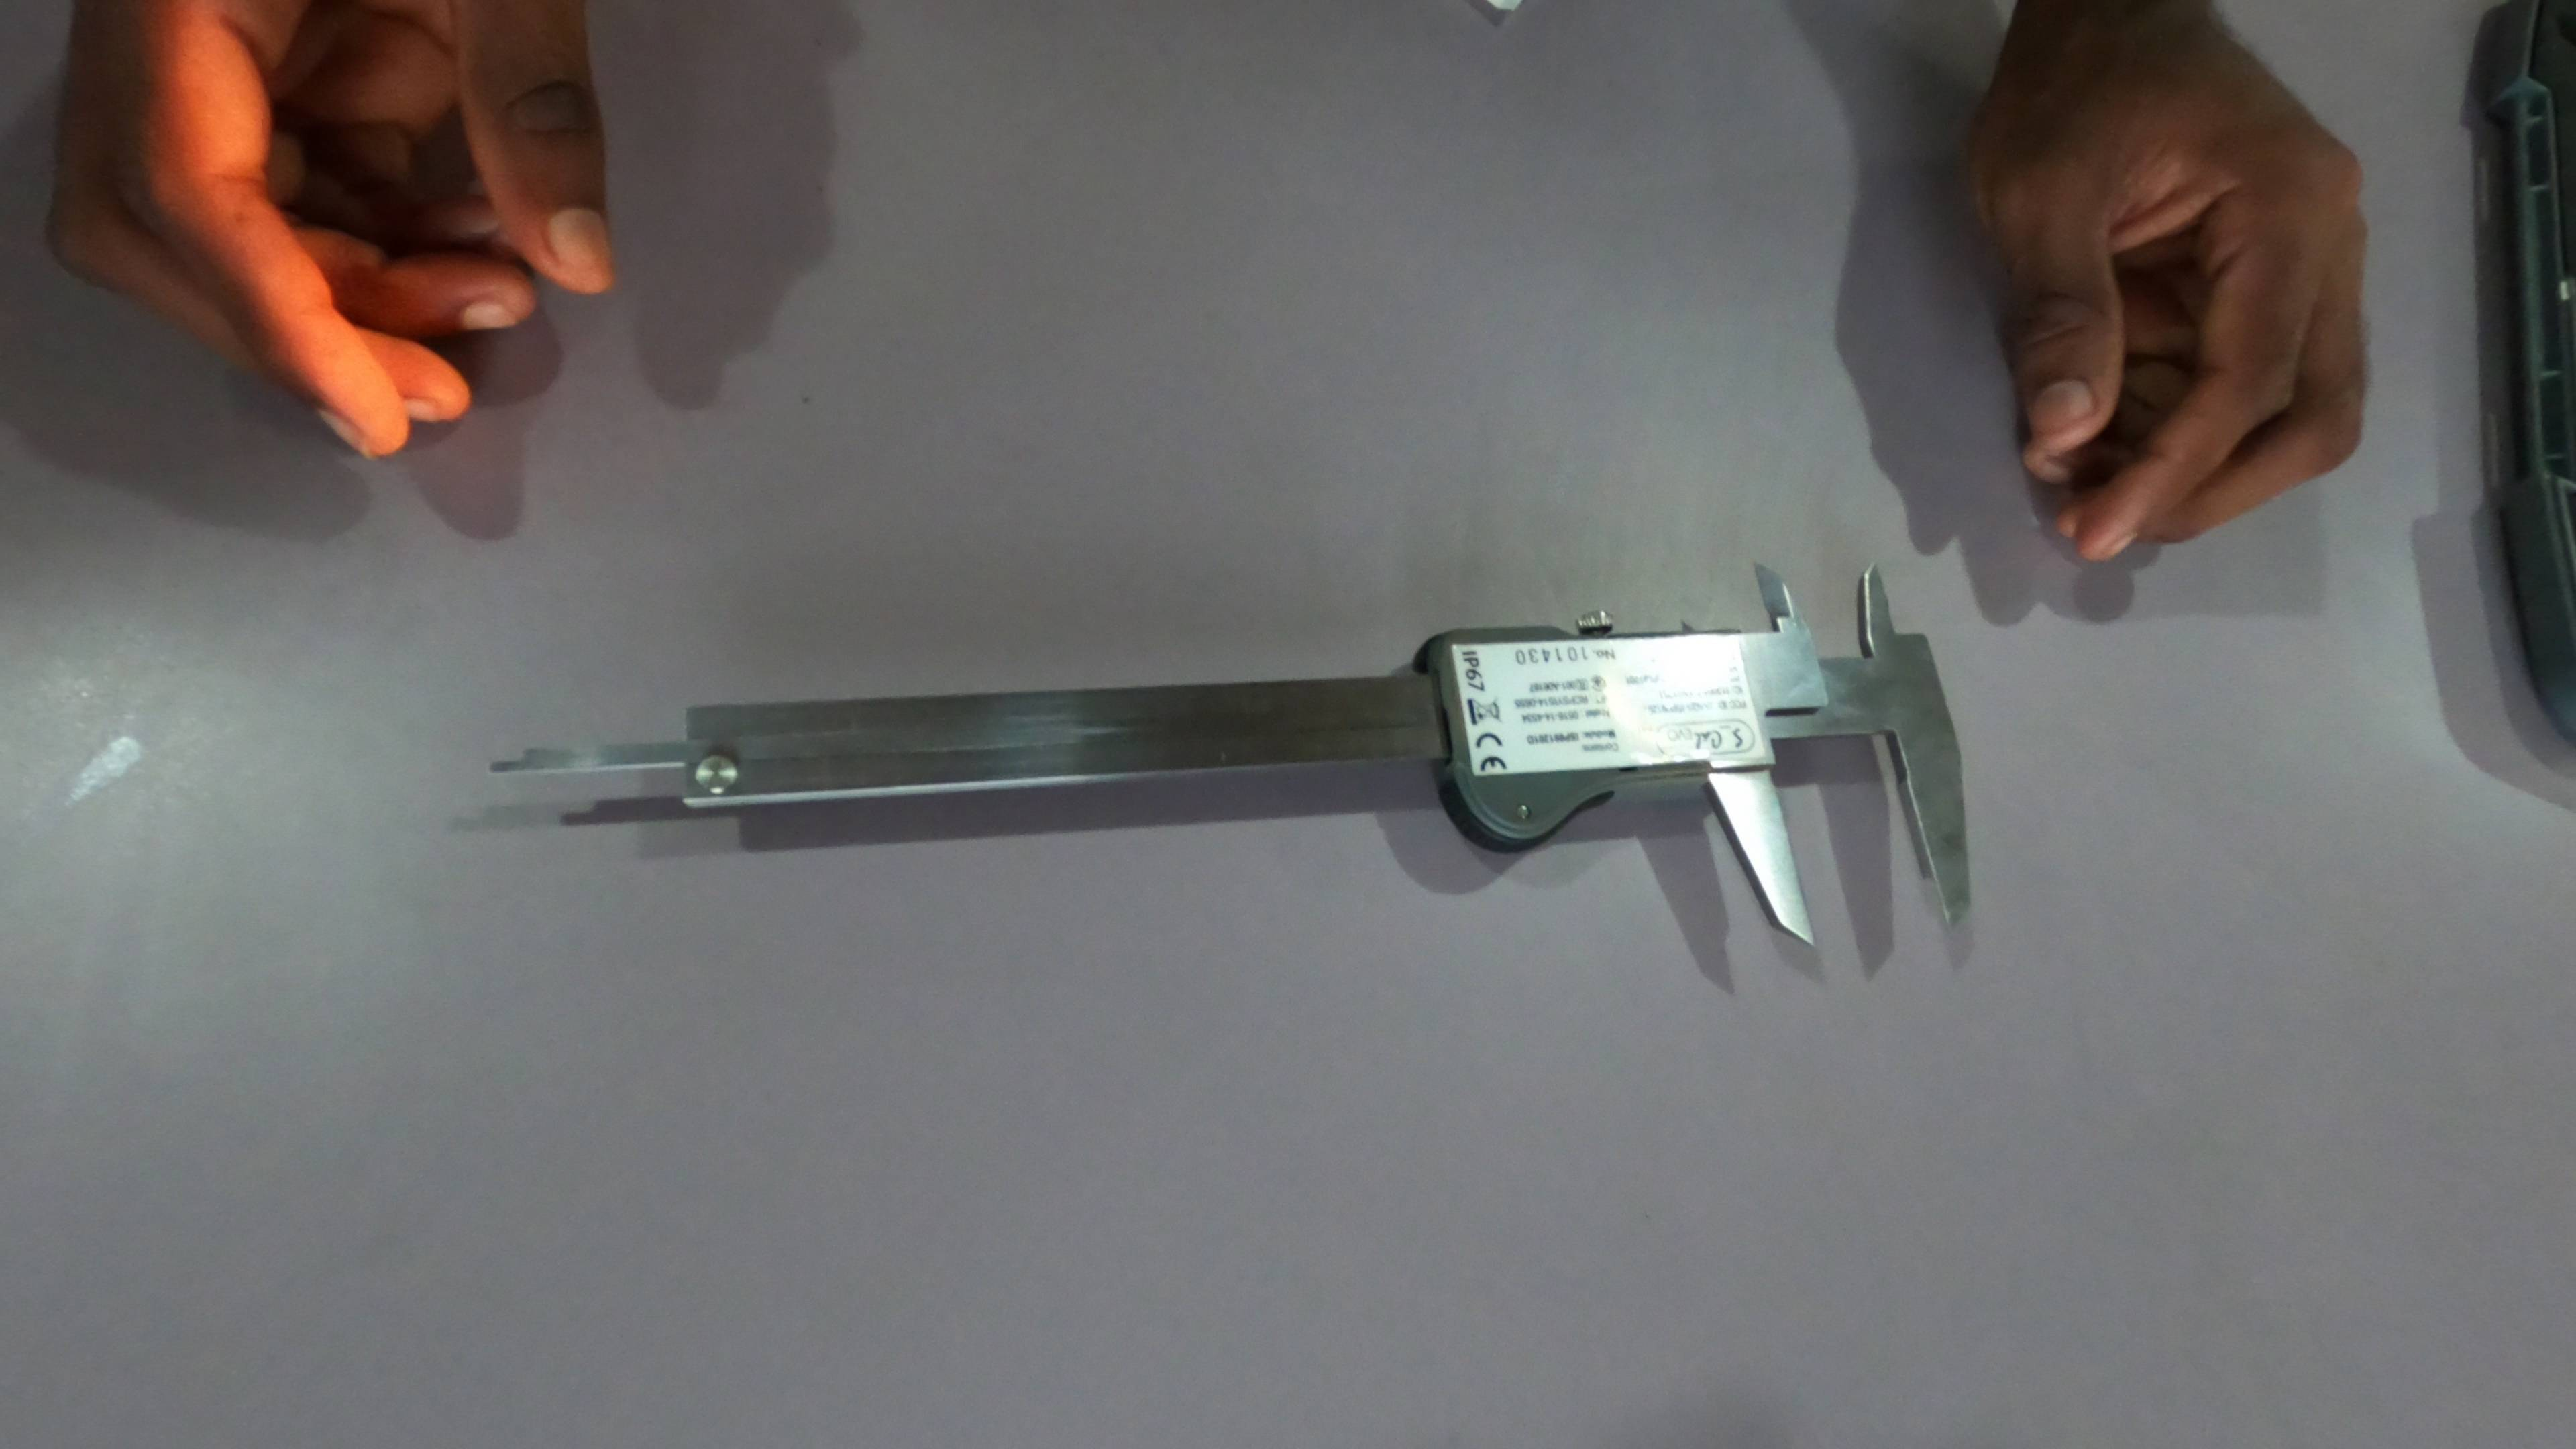vernier_caliper: (483, 554, 1978, 950)
